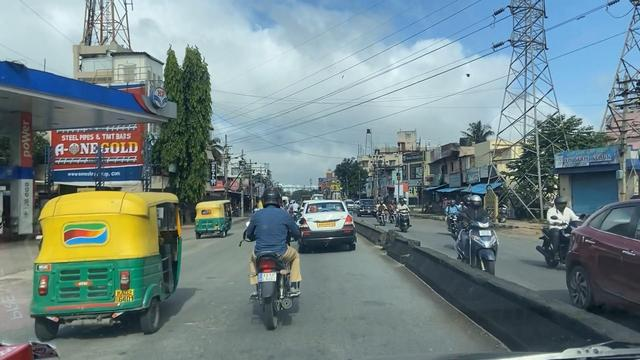LMV: (36, 194, 182, 335), (245, 190, 299, 328), (300, 202, 356, 252)
